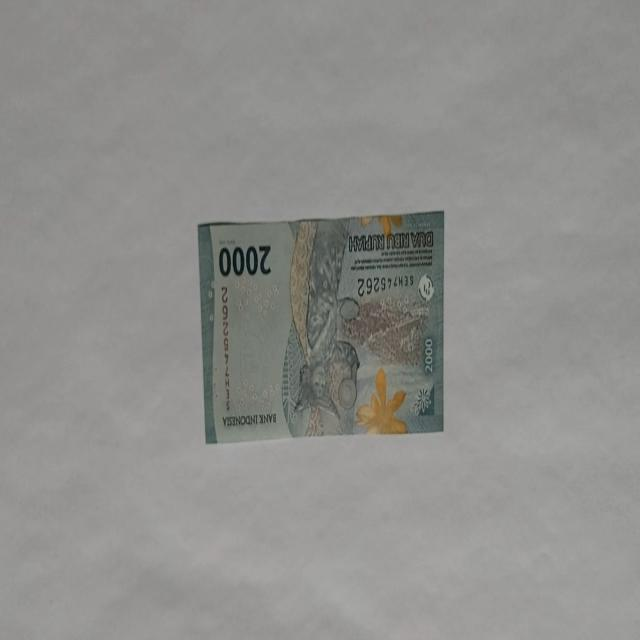dua ribu rupiah: (197, 210, 445, 444)
